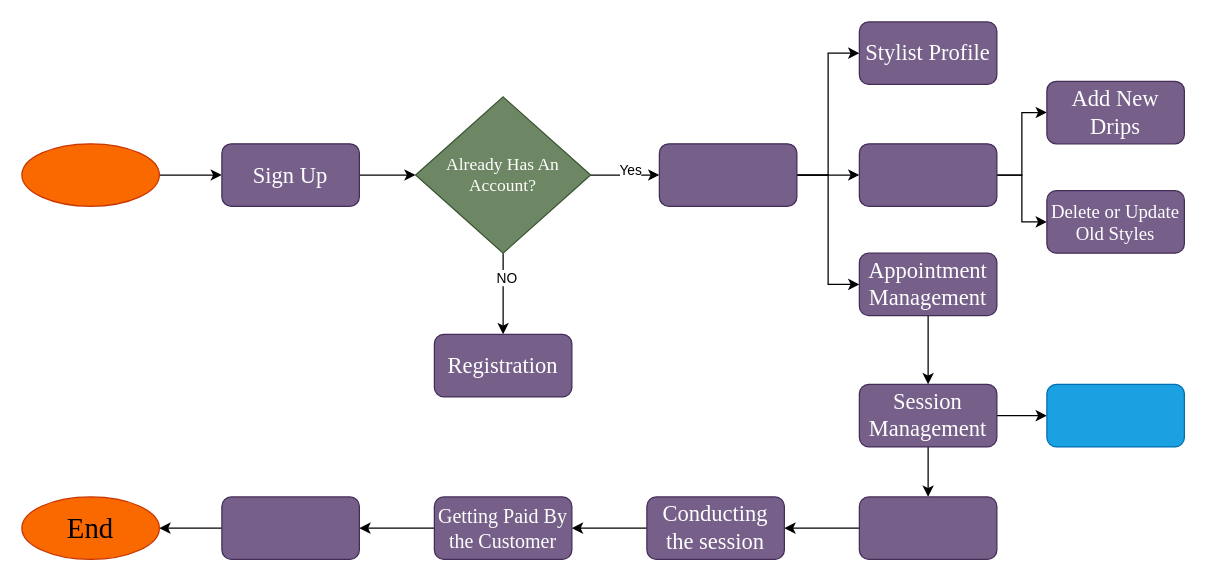
Some shapes in this 1206 by 584 pixel diagram are drawn without their labels. Here are the shapes that lost their labels. From the top down, the centre of each, then its label:
At point (90, 174): "Start".
At point (727, 174): "Login".
At point (927, 174): "Drip Collection".
At point (1115, 415): "Accept or Reject Session".
At point (290, 527): "Withdraw Amount After Leaving App's Cut".
At point (927, 527): "Scheduling One-on-One Session".
